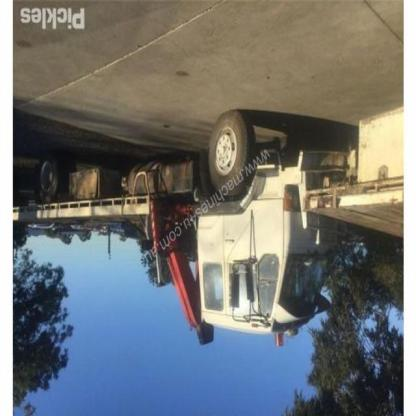truck: (15, 106, 353, 349)
